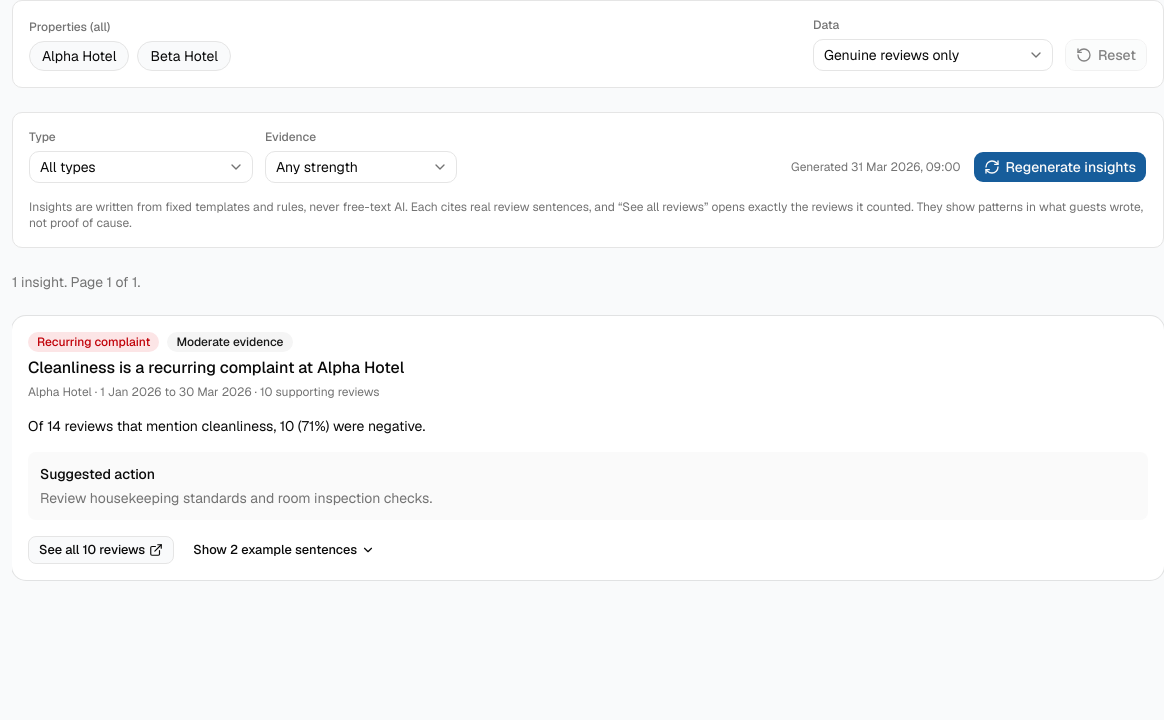
Test: InsightsView › reveals the verbatim example sentences, each linking to the full review
expect the text "The room was dirty" is not shown: met
Click the button "Show 2 example sentences" at (284, 550), box top-left (182, 536), bottom-right (386, 564)
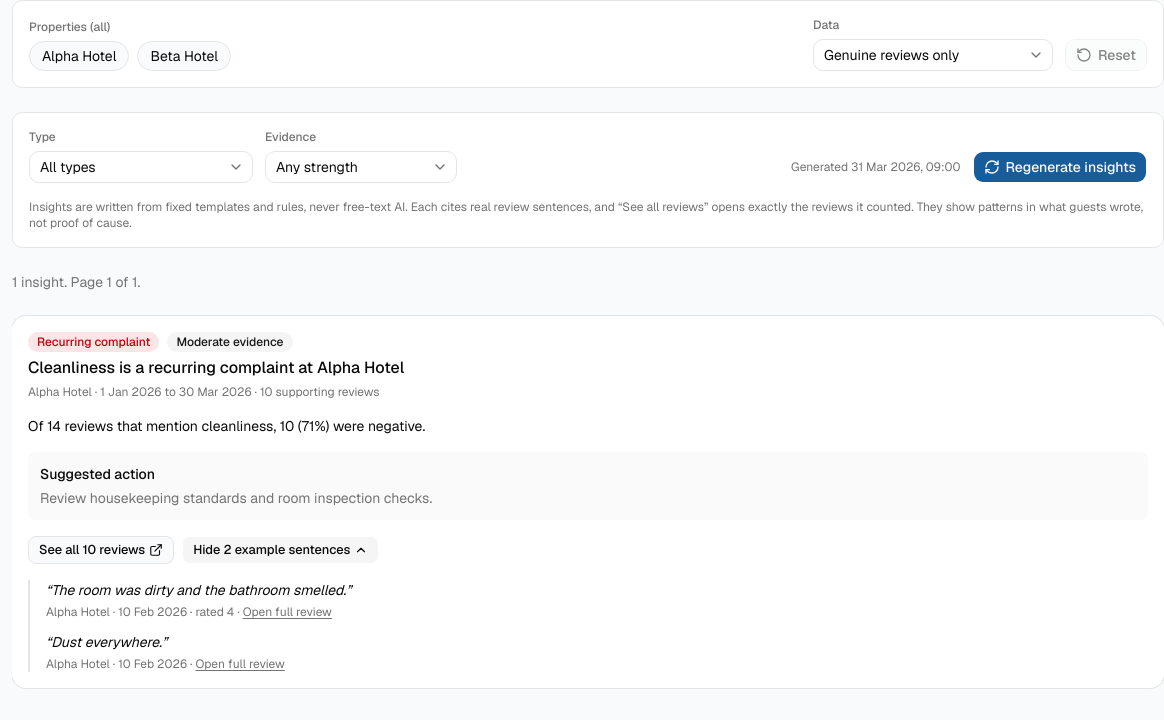
expect the text "“The room was dirty and the bathroom smelled.”" is shown: met, box top-left (46, 581), bottom-right (351, 599)
expect the text "“Dust everywhere.”" is shown: met, box top-left (46, 633), bottom-right (167, 651)
Click the button "Hide 2 example sentences" at (281, 550), box top-left (182, 536), bottom-right (379, 564)
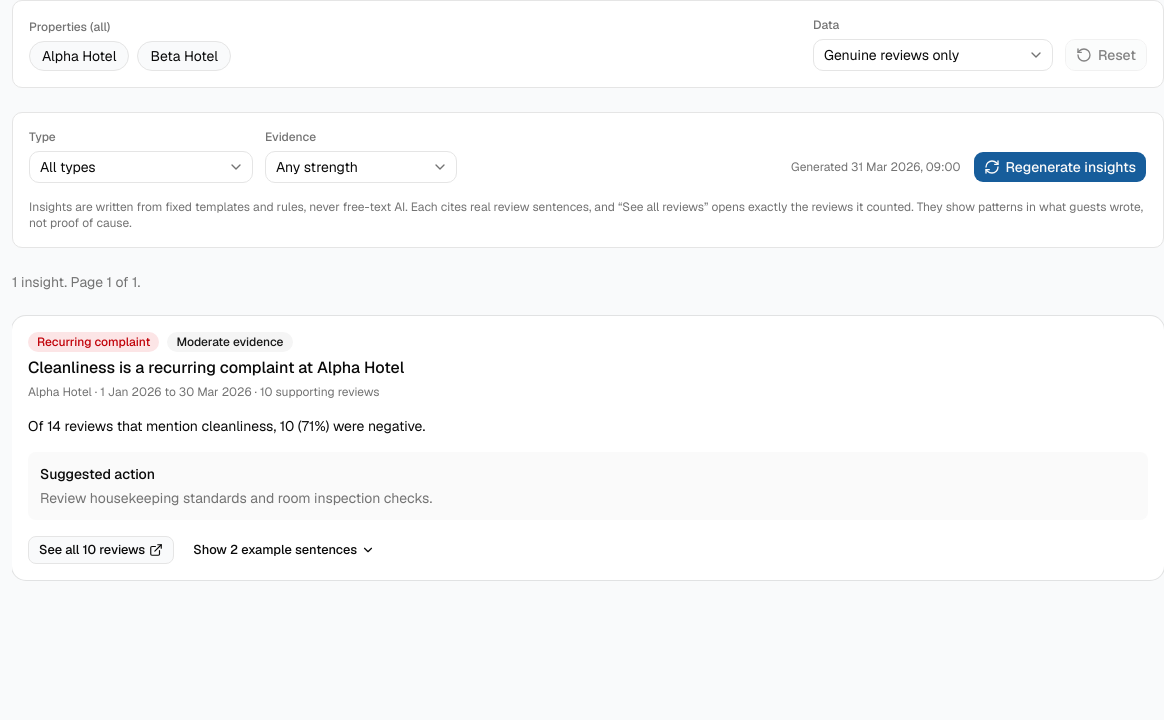
expect the text "Dust everywhere" is gone: met
